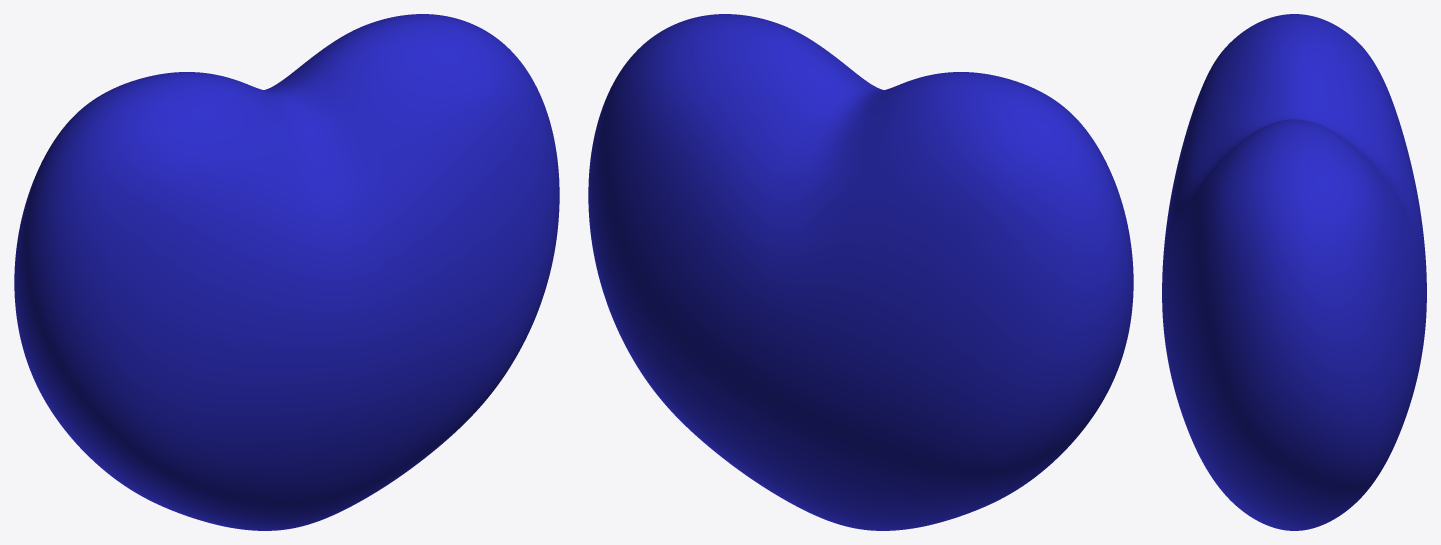
File: heart.fbx
The picture shows the model from 3 angles, left to right: view 1: azimuth 30°, elevation 25°; view 2: azimuth 150°, elevation 25°; view 3: azimuth 270°, elevation 25°; orthographic projection. The views are drawn at different scales.
Parts seen in each view (by area): view 1: Heart; view 2: Heart; view 3: Heart.
Boxes of the visible parts, x1=… form: Heart: x1=14, y1=14, x2=559, y2=530; Heart: x1=588, y1=14, x2=1133, y2=530; Heart: x1=1162, y1=14, x2=1426, y2=530.
Bounding box in the file's own units: 197 × 170 × 93.96.
